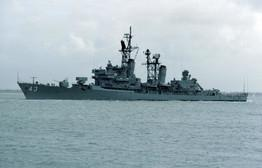warship: (16, 28, 251, 103)
